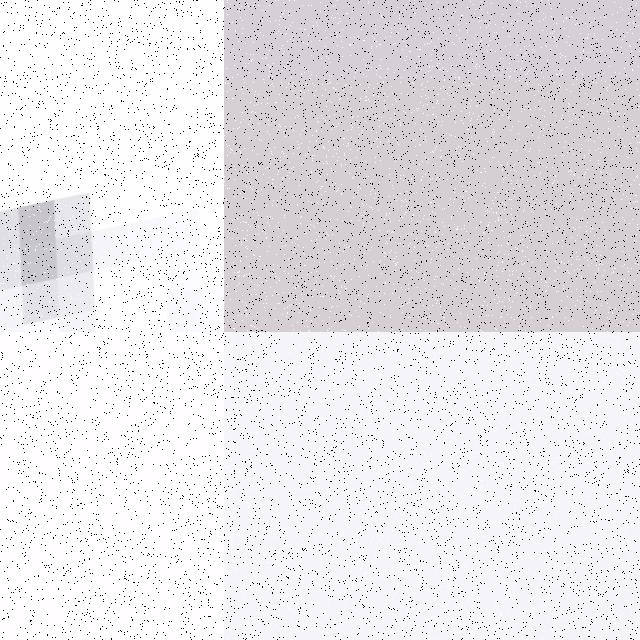drone: (0, 0, 224, 332)
